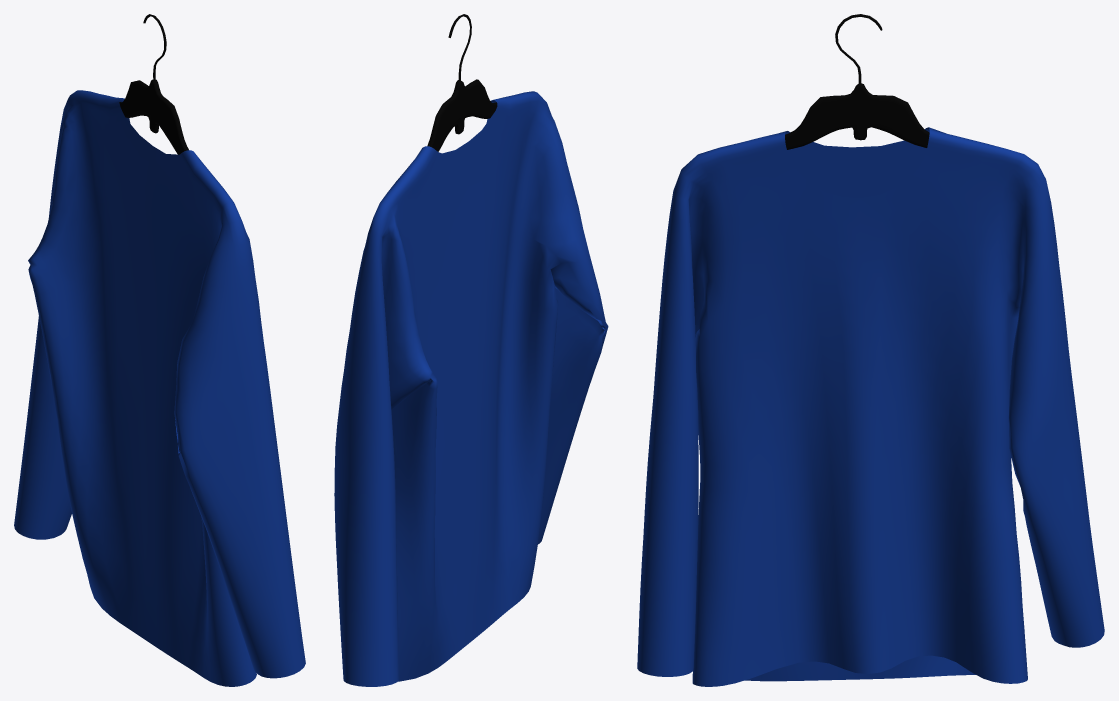
The model's file is blue-full-sleeve.glb.
The picture shows the model from 3 angles, left to right: view 1: azimuth 30°, elevation 25°; view 2: azimuth 150°, elevation 25°; view 3: azimuth 270°, elevation 25°; orthographic projection. The views are drawn at different scales.
Visible parts, largest first — view 1: full_sleeve_done2_ZBrush_defualt_group.002; view 2: full_sleeve_done2_ZBrush_defualt_group.002; view 3: full_sleeve_done2_ZBrush_defualt_group.002.
Boxes of the visible parts, x1,y1,x2,y2 form: full_sleeve_done2_ZBrush_defualt_group.002: (14,14,305,686); full_sleeve_done2_ZBrush_defualt_group.002: (334,14,608,686); full_sleeve_done2_ZBrush_defualt_group.002: (637,14,1104,686).
Size of the model in its own units: 0.1771 by 0.8885 by 0.5622.
